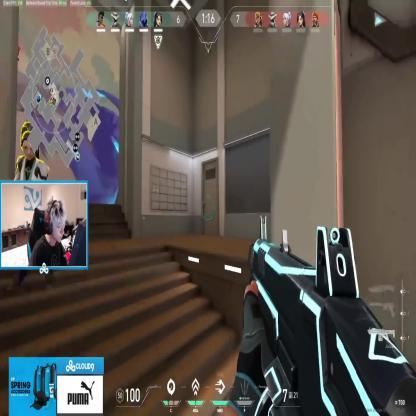enemy: (8, 122, 56, 288)
enemy_head: (20, 124, 39, 161)
